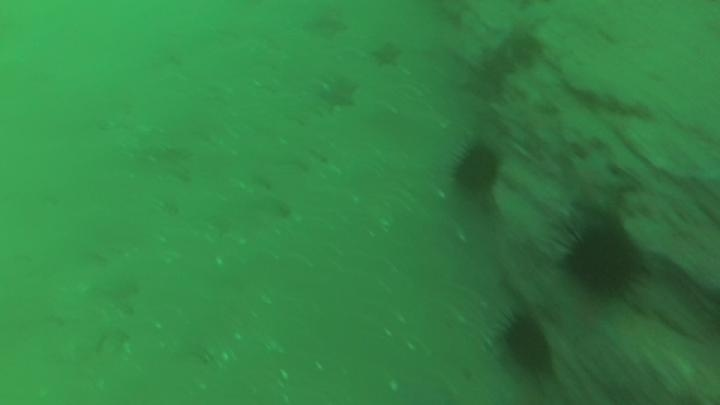echinus: (558, 221, 644, 300), (495, 307, 557, 380), (448, 139, 503, 198)
starfish: (558, 150, 629, 218), (315, 74, 361, 113), (369, 39, 405, 70)
